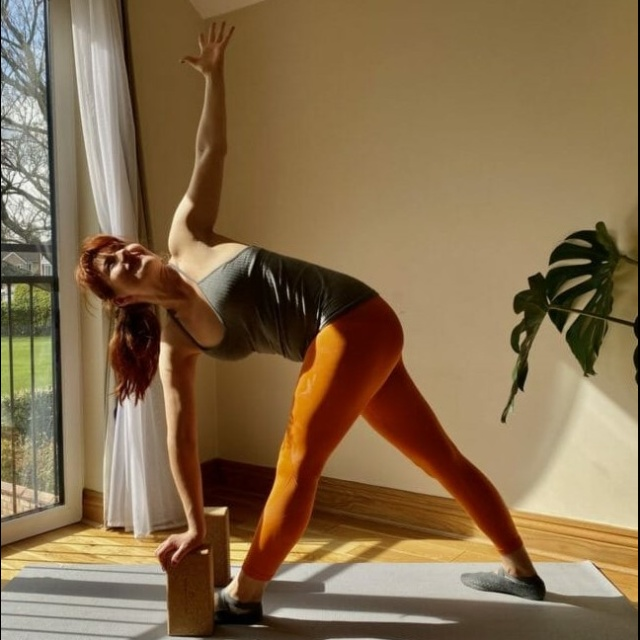Triangle_Pose: (58, 14, 553, 631)
